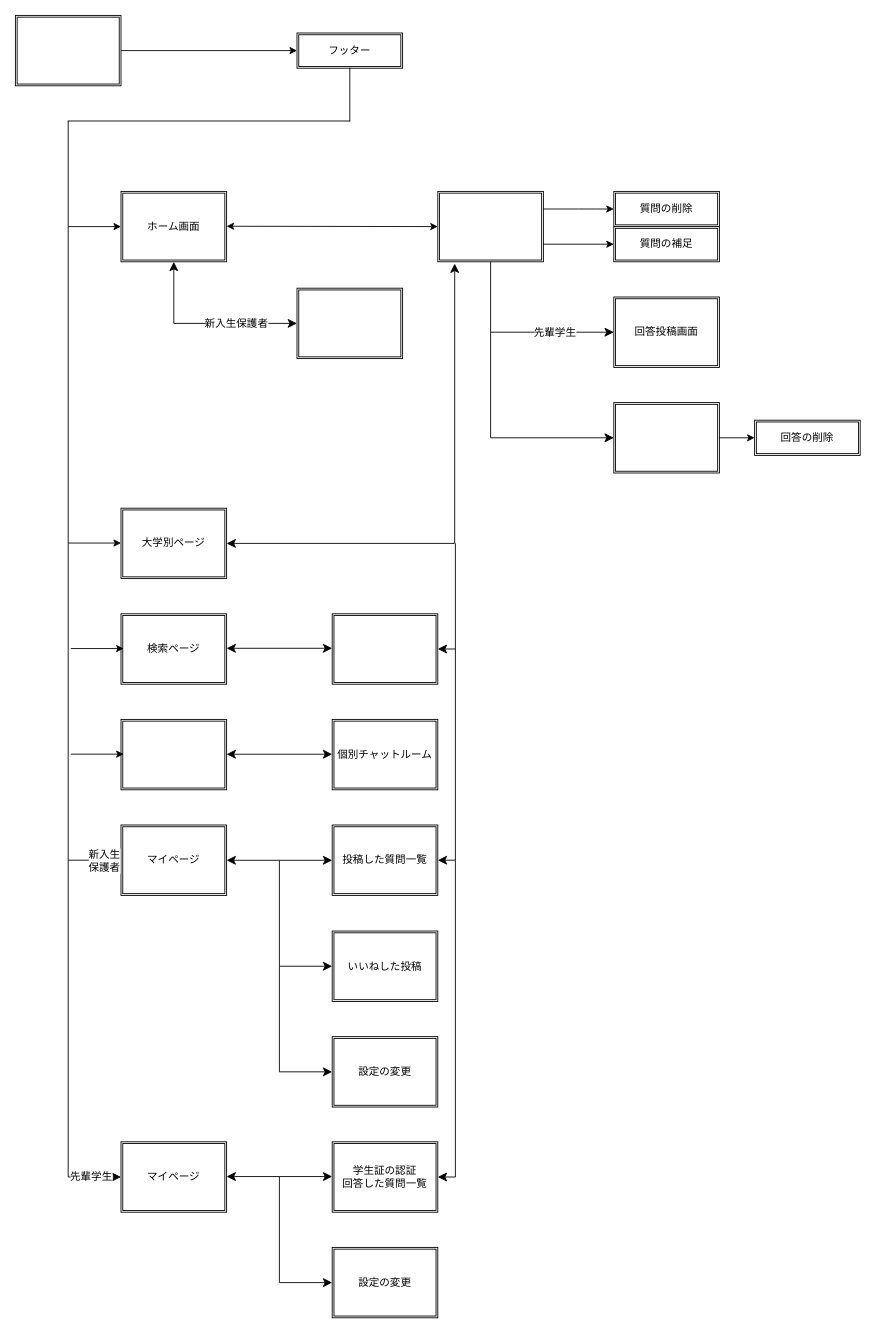
Some shapes in this 876 by 1333 pixel diagram are drawn without their labels. Here are the shapes that lost their labels. From the top down, the box of each, then its label:
(15, 15, 121, 86): ロゴ ログインページ 新規登録画面
(437, 191, 543, 262): 質問詳細ページ
(296, 287, 403, 359): 質問投稿画面
(613, 402, 719, 473): 回答詳細
(331, 613, 438, 684): 検索表示
(120, 719, 227, 790): やりとりページ
